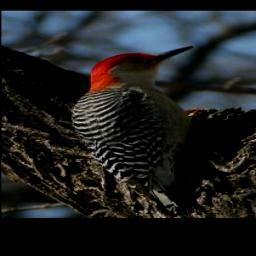Woodpecker: (66, 44, 218, 215)
